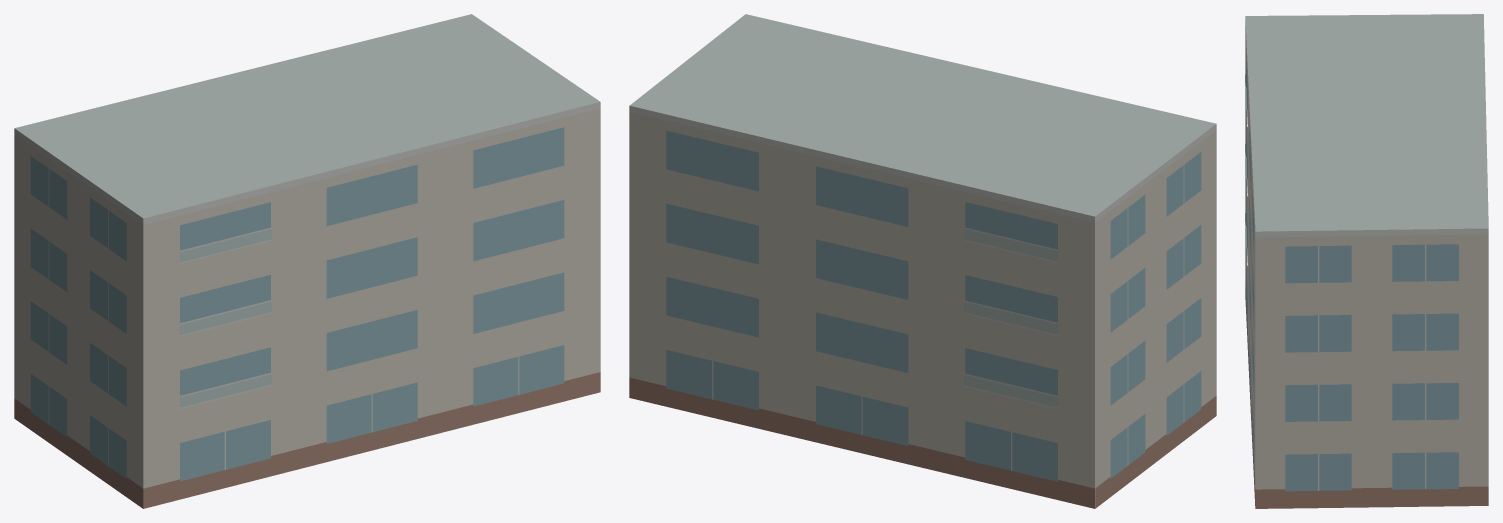
The model's file is survey-upis-32926755.glb.
3 views of the same model, side by side, from view 1: azimuth 30°, elevation 25°; view 2: azimuth 150°, elevation 25°; view 3: azimuth 270°, elevation 25° (orthographic). The views are drawn at different scales.
Visible parts, largest first — view 1: survey-upis-32926755.tmp; view 2: survey-upis-32926755.tmp; view 3: survey-upis-32926755.tmp.
Boxes of the visible parts, x1,y1,x2,y2 form: survey-upis-32926755.tmp: (14, 14, 600, 508); survey-upis-32926755.tmp: (629, 14, 1216, 508); survey-upis-32926755.tmp: (1245, 14, 1488, 508).
Size of the model in its own units: 19.02 by 11.3 by 9.01.
